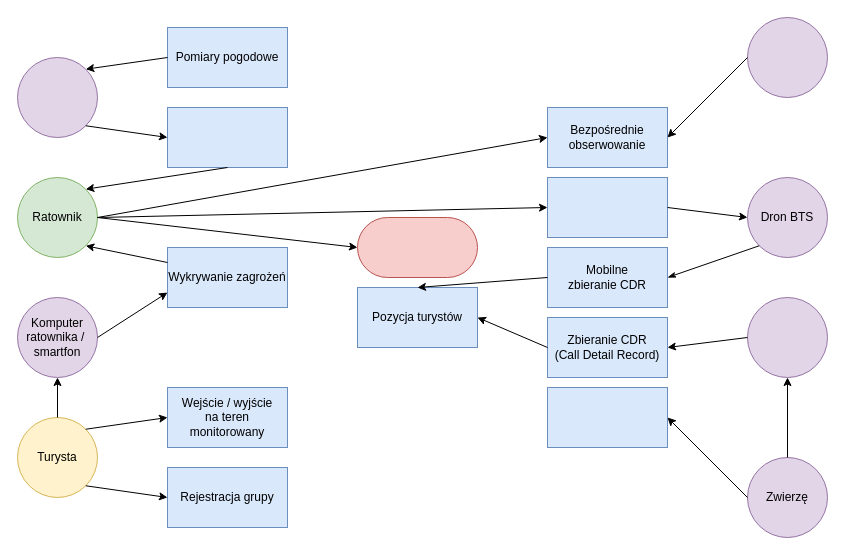
Image size: 845x555. Some labels were removed from this diagram. Each missing label, with the box of its shape:
BTS (Base Transceiver Station): (746, 296, 828, 378)
Czujnik / stacja pogodowa: (16, 56, 98, 138)
Dron z kamerą: (746, 16, 828, 98)
Pozycja zwierząt: (546, 386, 668, 448)
Rejestracja zagrożeń: (356, 216, 478, 278)
Wykrywania ryzyka lawina: (166, 106, 288, 168)
Wysyłka dronów: (546, 176, 668, 238)
